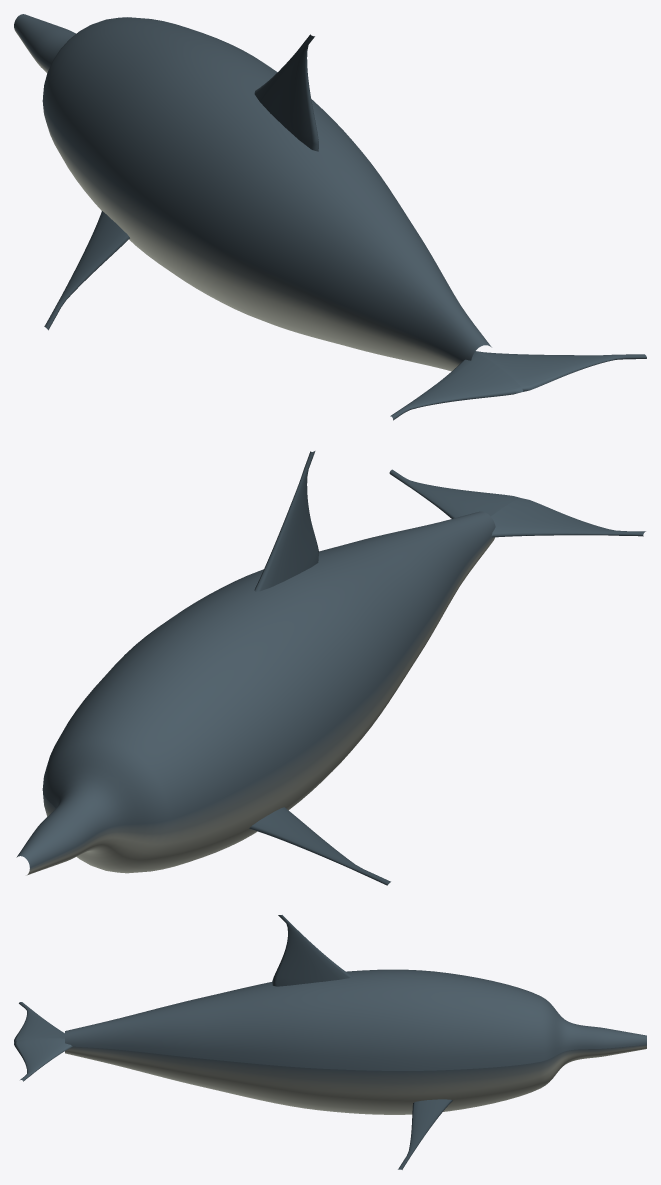
File: dolphin.glb
The picture shows the model from 3 angles, top to bottom: view 1: azimuth 30°, elevation 25°; view 2: azimuth 150°, elevation 25°; view 3: azimuth 270°, elevation 25°; orthographic projection. The views are drawn at different scales.
Visible parts, largest first — view 1: DolphinBodyAssembly, DolphinFinFlukeAssembly; view 2: DolphinBodyAssembly, DolphinFinFlukeAssembly; view 3: DolphinBodyAssembly, DolphinFinFlukeAssembly.
Part boxes in pixels (x1,y1,x2,y2): DolphinBodyAssembly: [14, 14, 491, 371]; DolphinFinFlukeAssembly: [390, 351, 646, 420]; DolphinBodyAssembly: [16, 451, 495, 885]; DolphinFinFlukeAssembly: [389, 469, 645, 537]; DolphinBodyAssembly: [65, 915, 646, 1169]; DolphinFinFlukeAssembly: [14, 1002, 72, 1081].
Size of the model in its own units: 1.09 by 0.9741 by 2.74.
